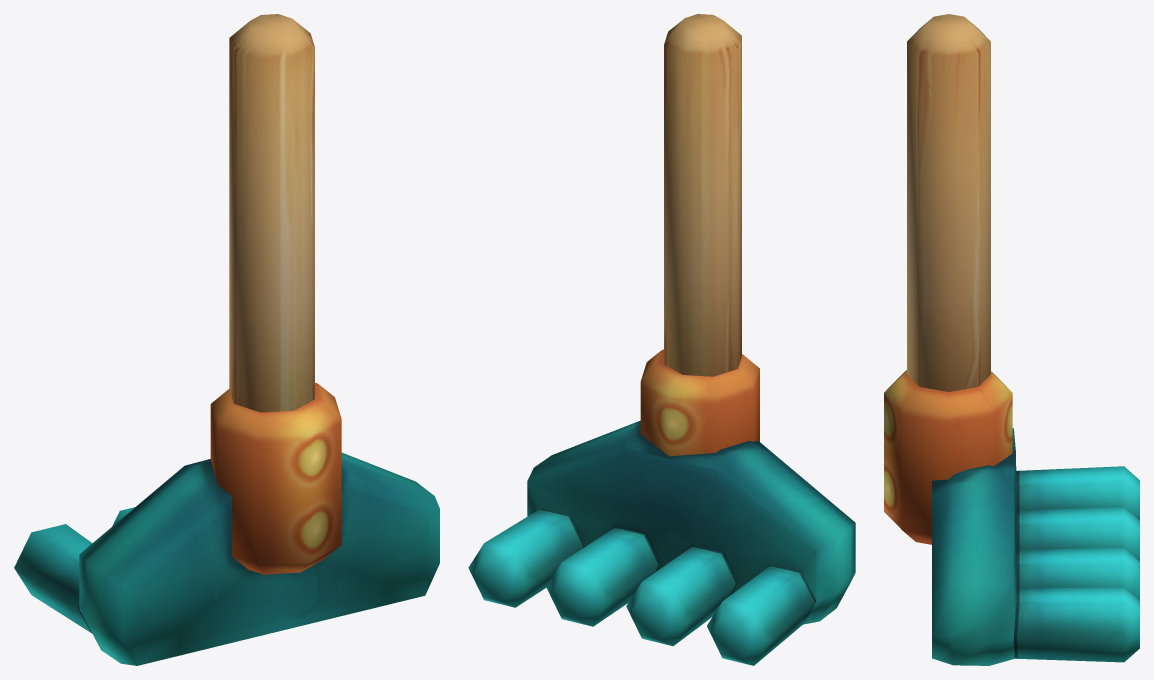
File: SE_Rake_02.fbx
The picture shows the model from 3 angles, left to right: view 1: azimuth 30°, elevation 25°; view 2: azimuth 150°, elevation 25°; view 3: azimuth 270°, elevation 25°; orthographic projection. The views are drawn at different scales.
Visible parts, largest first — view 1: SE_Rake_02; view 2: SE_Rake_02; view 3: SE_Rake_02.
Part boxes in pixels (left/top/right/bottom): SE_Rake_02: left=14, top=14, right=439, bottom=665; SE_Rake_02: left=468, top=14, right=855, bottom=665; SE_Rake_02: left=884, top=14, right=1139, bottom=665.
Size of the model in its own units: 1.14 by 2 by 0.8092.
